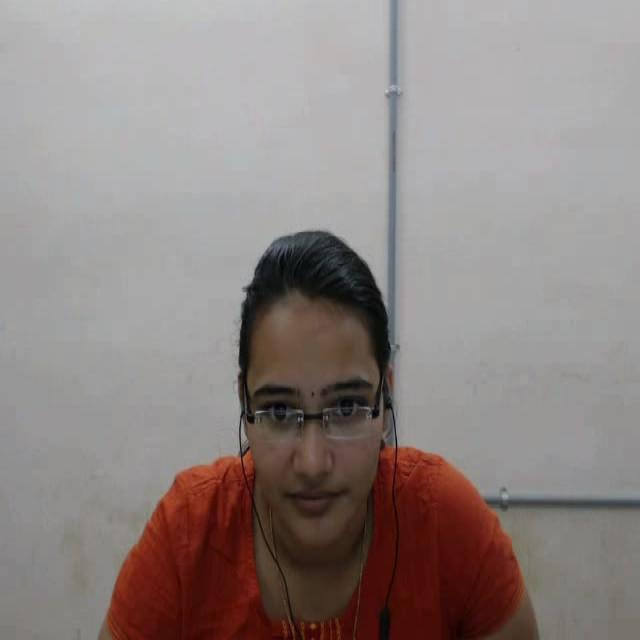Engaged: (200, 209, 440, 592)
